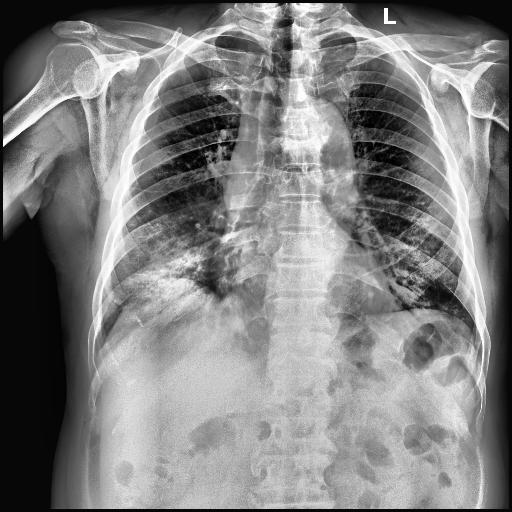0- Aortic enlargement: (284, 99, 356, 183), (287, 96, 355, 174), (302, 97, 356, 173)
4- Consolidation: (101, 220, 218, 303)
6- Infiltration: (101, 220, 218, 303), (122, 231, 210, 307)
7- Lung Opacity: (108, 216, 220, 323), (101, 220, 218, 303), (122, 231, 210, 307)
